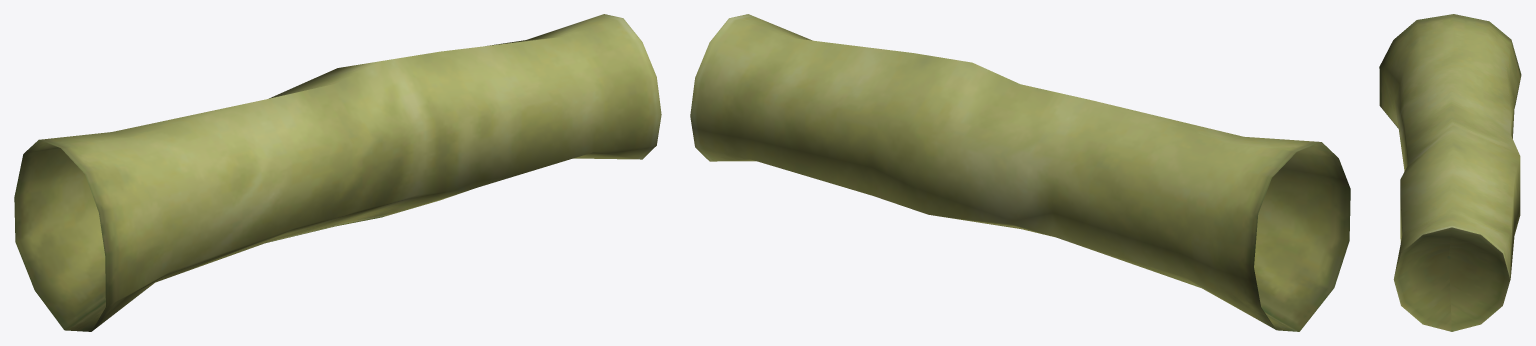
The model's file is rightArm.obj.
3 renders of one model, left to right at view 1: azimuth 30°, elevation 25°; view 2: azimuth 150°, elevation 25°; view 3: azimuth 270°, elevation 25°, orthographic. The views are drawn at different scales.
Visible parts, largest first — view 1: polygon2; view 2: polygon2; view 3: polygon2.
Boxes of the visible parts, x1=… form: polygon2: x1=14, y1=14, x2=661, y2=331; polygon2: x1=690, y1=14, x2=1350, y2=331; polygon2: x1=1379, y1=14, x2=1521, y2=331.
Size of the model in its own units: 4.3 by 1.38 by 1.23.
Materials: 1 (1 with a texture image).
